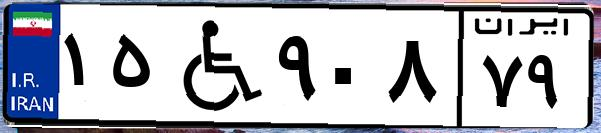0: (330, 28, 385, 110)
1: (57, 26, 110, 100)
5: (110, 28, 158, 98)
7: (475, 38, 525, 113)
8: (385, 28, 445, 110)
9: (270, 28, 330, 110), (525, 38, 570, 115)
ژ (معلولین و جانبازان): (158, 12, 270, 120)
